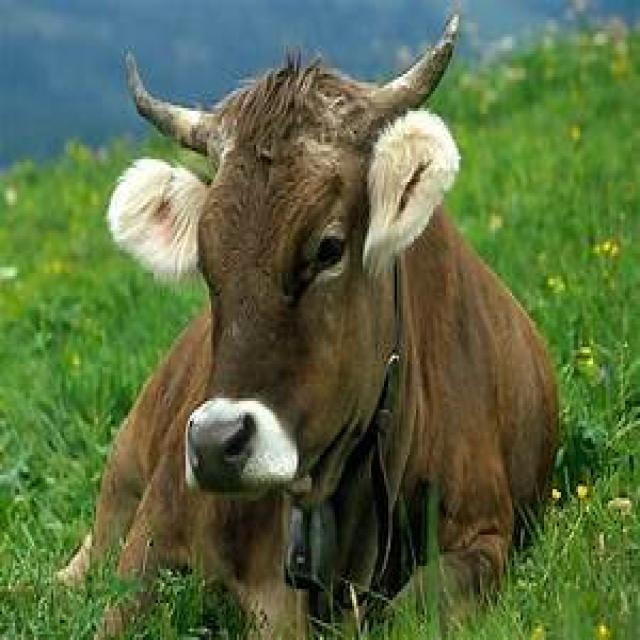cow: (69, 15, 556, 636)
